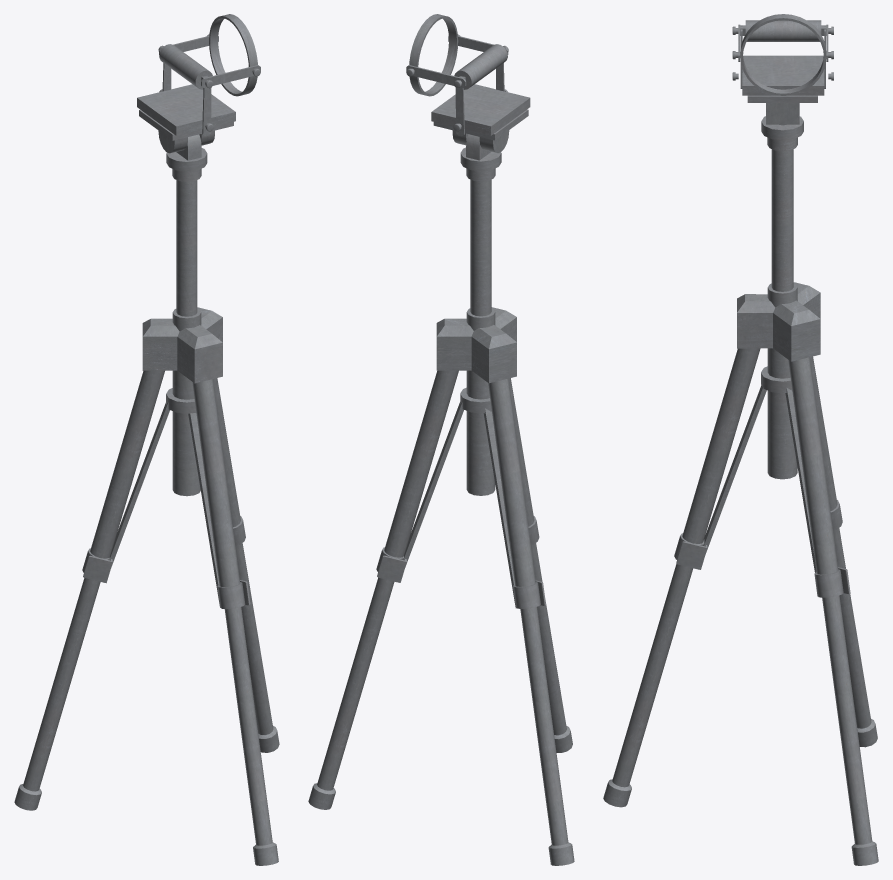
File: stand.fbx
3 views of the same model, side by side, from view 1: azimuth 30°, elevation 25°; view 2: azimuth 150°, elevation 25°; view 3: azimuth 270°, elevation 25° (orthographic). The views are drawn at different scales.
Parts seen in each view (by area): view 1: Mesh; view 2: Mesh; view 3: Mesh.
Part boxes in pixels (x1,y1,x2,y2): Mesh: (14, 14, 279, 865); Mesh: (308, 14, 574, 865); Mesh: (603, 14, 878, 865).
Bounding box in the file's own units: 89.84 × 254 × 78.23.
